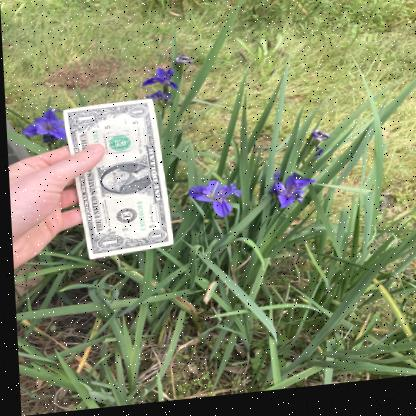one-front: (61, 94, 173, 266)
